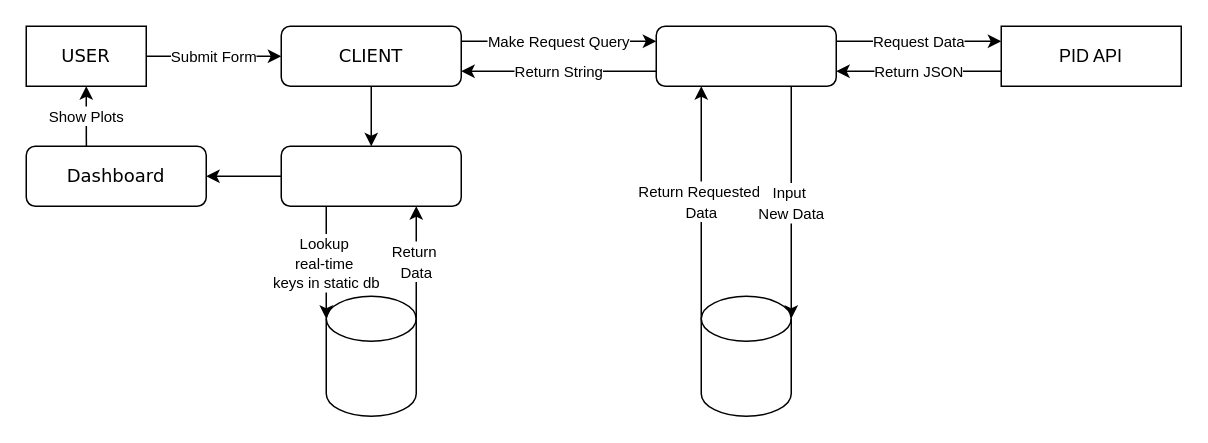
Image size: 1208x443. Some labels were removed from this diagram. The shapes that lost their labels are listed below. From the top down, each one's centre as x and y in pixels, then its label:
At point 745,55: "Proxy SERVER".
At point 370,175: "Process Data".
